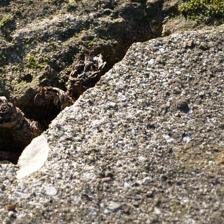Crack: (4, 2, 165, 161)
